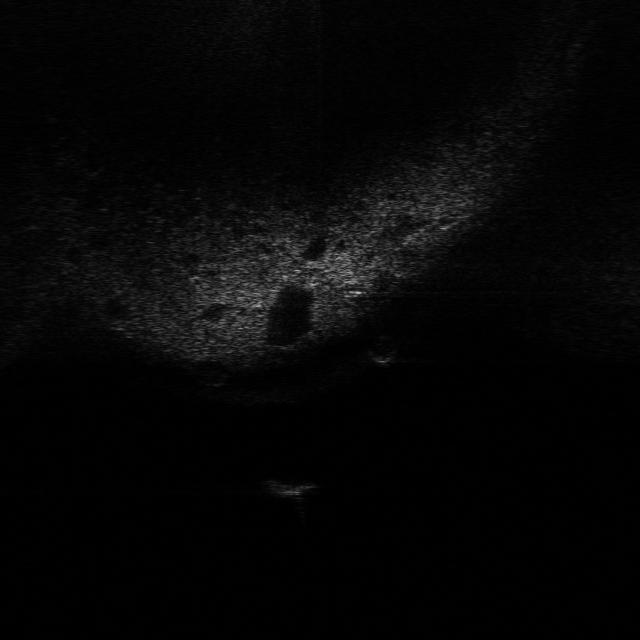ball: (362, 332, 401, 368)
cube: (260, 476, 324, 501)
